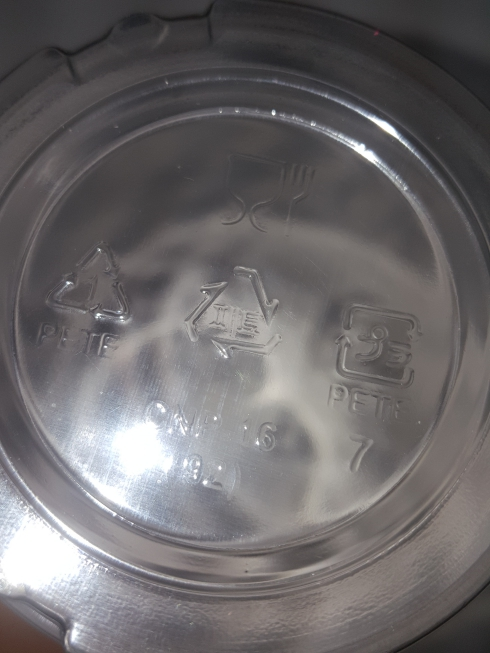recycle: (35, 221, 138, 369)
